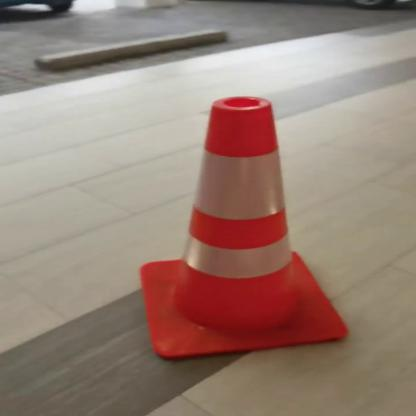cone: (115, 86, 356, 364)
